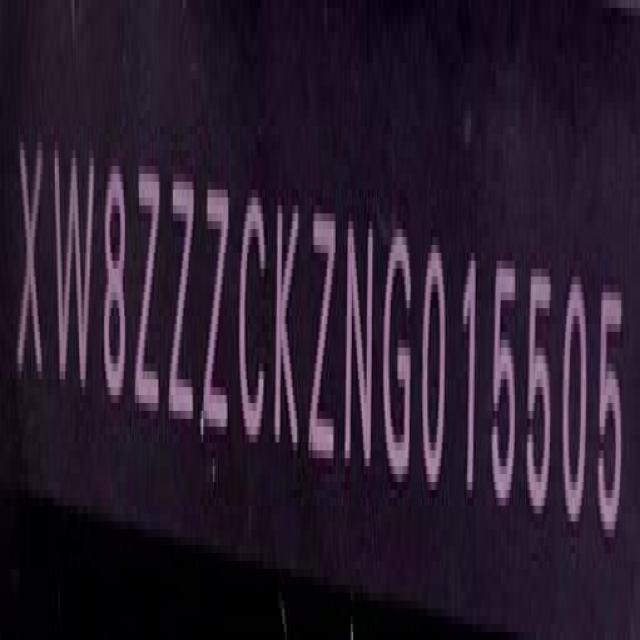0: (560, 269, 588, 533), (421, 237, 448, 495)
1: (460, 237, 478, 501)
5: (490, 237, 518, 518), (526, 252, 554, 521), (598, 272, 624, 544)
8: (103, 158, 128, 418)
C: (236, 170, 267, 448)
G: (382, 219, 414, 483)
K: (272, 187, 301, 451)
N: (344, 199, 376, 465)
W: (51, 105, 96, 407)
X: (16, 102, 45, 398)
Z: (308, 187, 337, 477), (132, 155, 162, 421), (202, 170, 230, 448), (168, 155, 195, 439)
